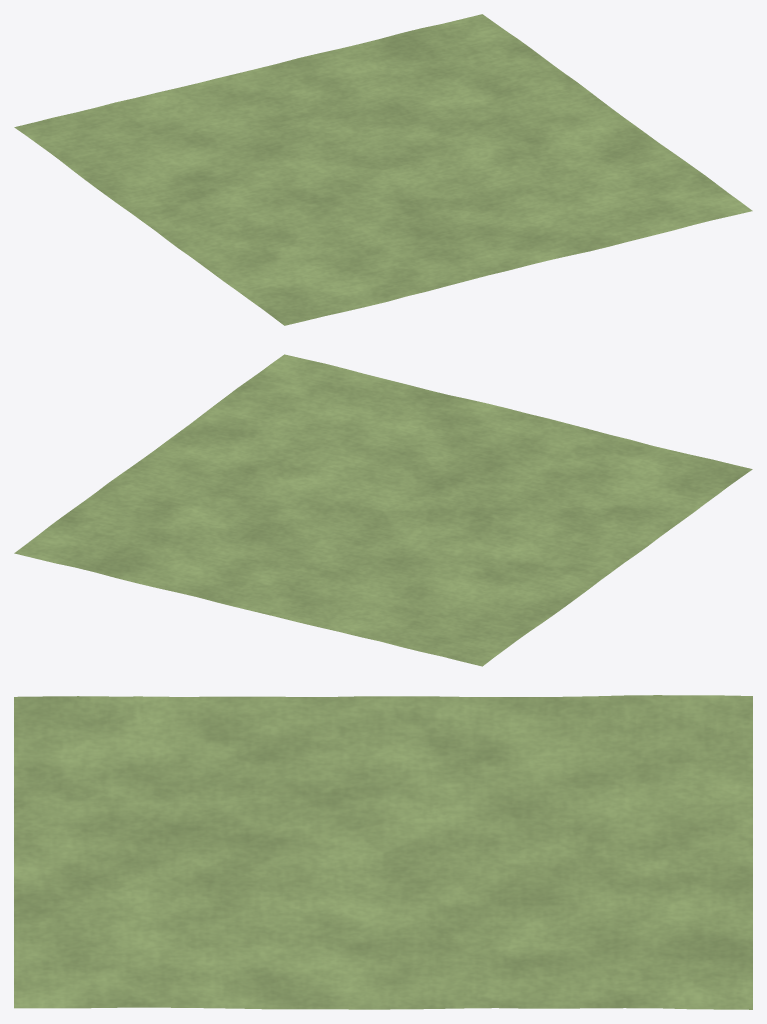
The model's file is meadow.glb.
3 renders of one model, top to bottom at view 1: azimuth 30°, elevation 25°; view 2: azimuth 150°, elevation 25°; view 3: azimuth 270°, elevation 25°, orthographic. The views are drawn at different scales.
Visible parts, largest first — view 1: Meadow; view 2: Meadow; view 3: Meadow.
Part boxes in pixels (left/top/right/bottom): Meadow: left=14, top=14, right=752, bottom=325; Meadow: left=14, top=354, right=752, bottom=666; Meadow: left=14, top=695, right=752, bottom=1009.
Size of the model in its own units: 26 by 0.1584 by 26.
1 material, 1 textured.
